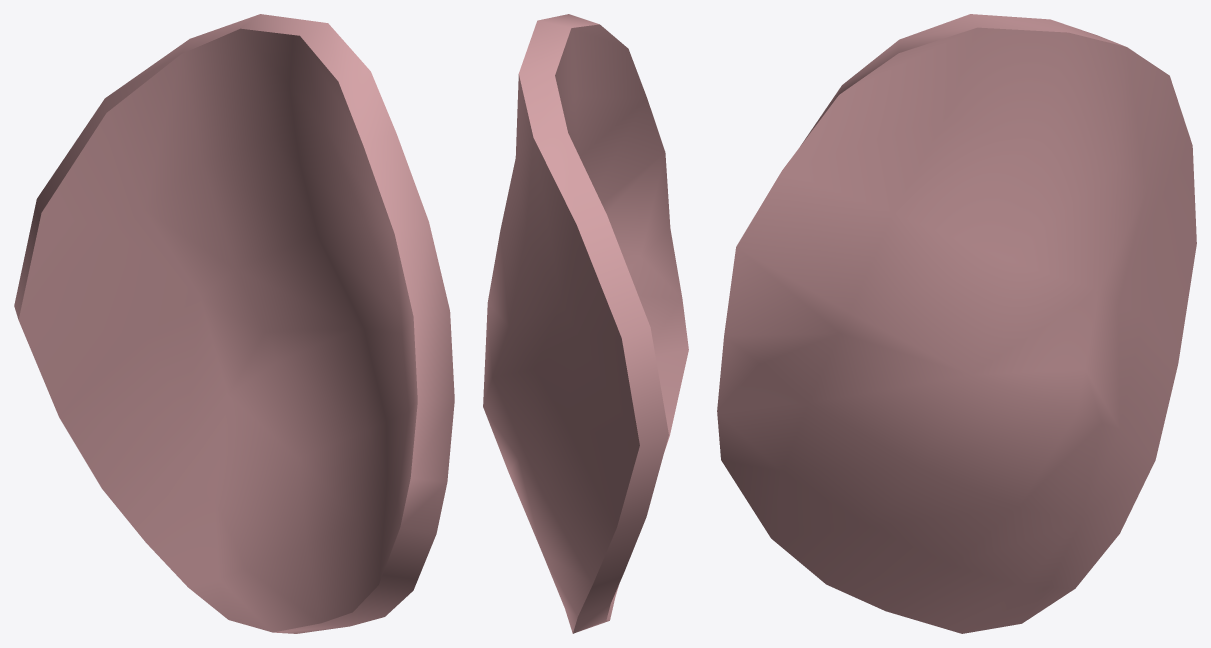
3 views of the same model, side by side, from view 1: azimuth 30°, elevation 25°; view 2: azimuth 150°, elevation 25°; view 3: azimuth 270°, elevation 25° (orthographic). The views are drawn at different scales.
Parts seen in each view (by area): view 1: ZA_d151c06cbcc01e9b; view 2: ZA_d151c06cbcc01e9b; view 3: ZA_d151c06cbcc01e9b.
Part boxes in pixels (<box>): ZA_d151c06cbcc01e9b: <box>14,14,454,633</box>; ZA_d151c06cbcc01e9b: <box>483,14,688,633</box>; ZA_d151c06cbcc01e9b: <box>717,14,1196,633</box>.
Size of the model in its own units: 0.0257 by 0.0531 by 0.0368.
